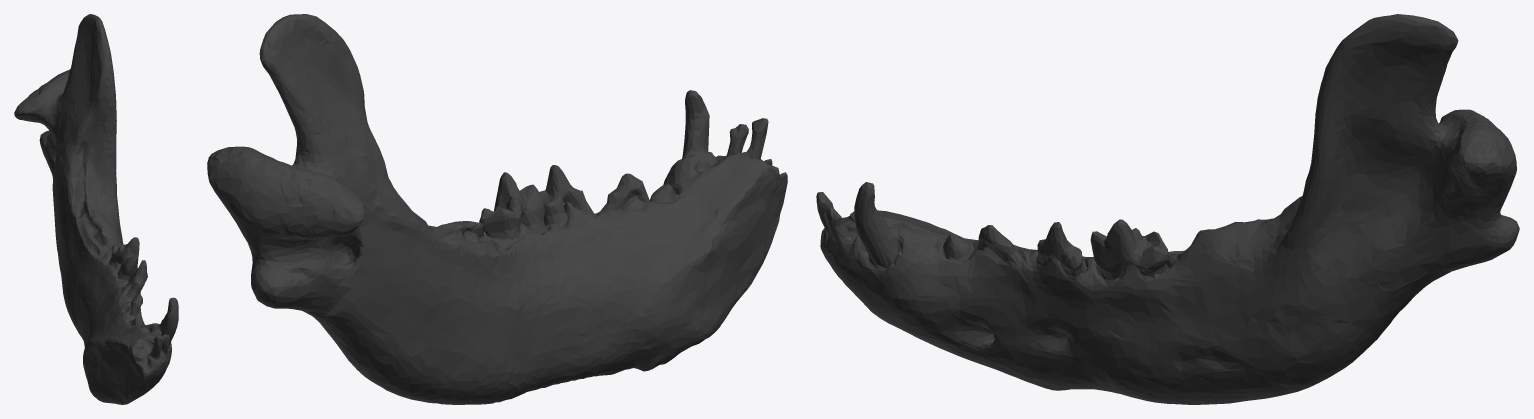
Rendered from Mandible_L.glb.
The picture shows the model from 3 angles, left to right: view 1: azimuth 30°, elevation 25°; view 2: azimuth 150°, elevation 25°; view 3: azimuth 270°, elevation 25°; orthographic projection. The views are drawn at different scales.
Visible parts, largest first — view 1: Mandible_L; view 2: Mandible_L; view 3: Mandible_L.
Part boxes in pixels (box(x1,y1,x2,y2)): Mandible_L: box(14, 14, 178, 404); Mandible_L: box(207, 14, 787, 404); Mandible_L: box(816, 14, 1519, 404).
Size of the model in its own units: 274 by 445 by 629.
Materials: 1 (1 with a texture image).
